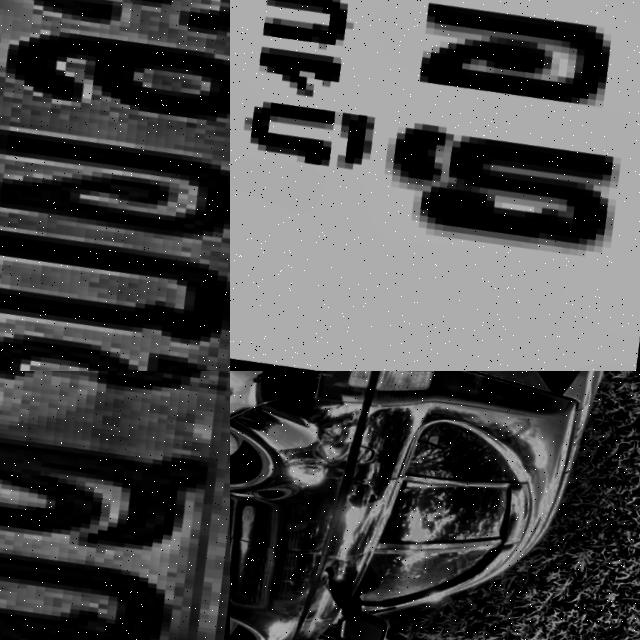license-plate: (230, 0, 640, 371), (0, 0, 230, 371), (0, 371, 230, 640)
